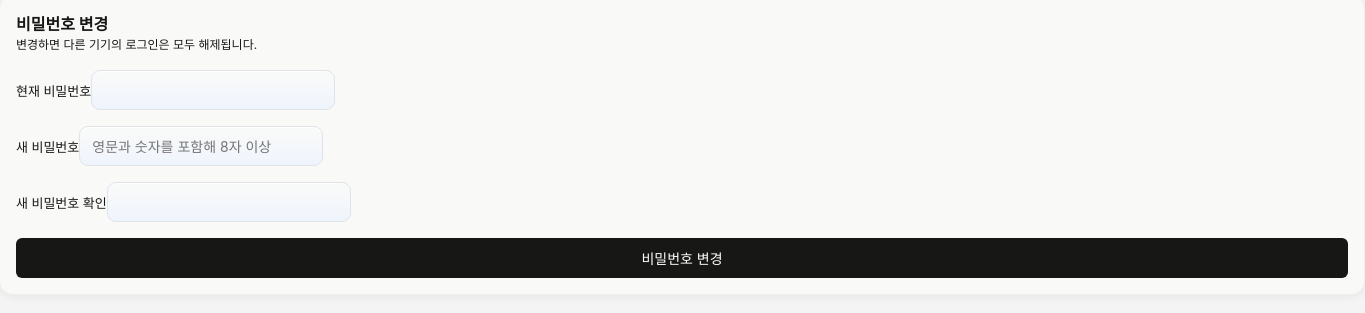
Scenario: PasswordCard › rejects mismatched confirmation
In the password field labelled "현재 비밀번호": (213, 90) [91, 70, 335, 110], type "password123"
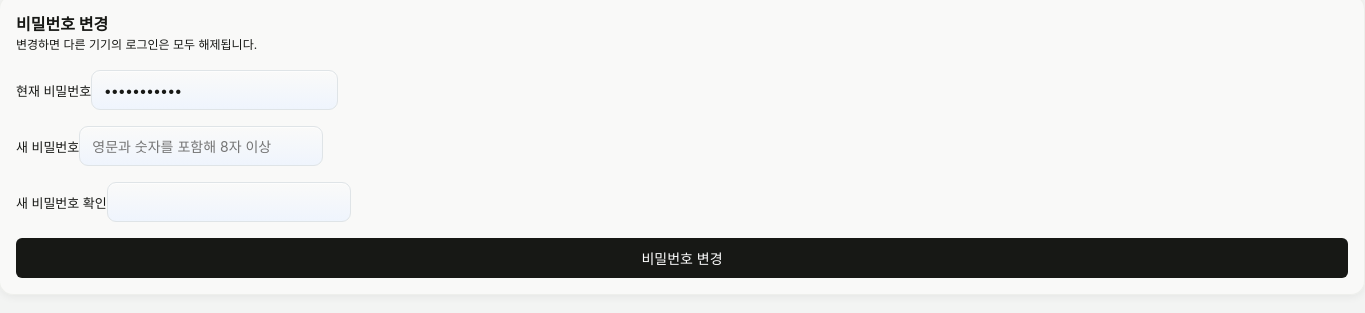
In the password field labelled "새 비밀번호": (201, 146) [79, 126, 323, 166], type "newpass123"
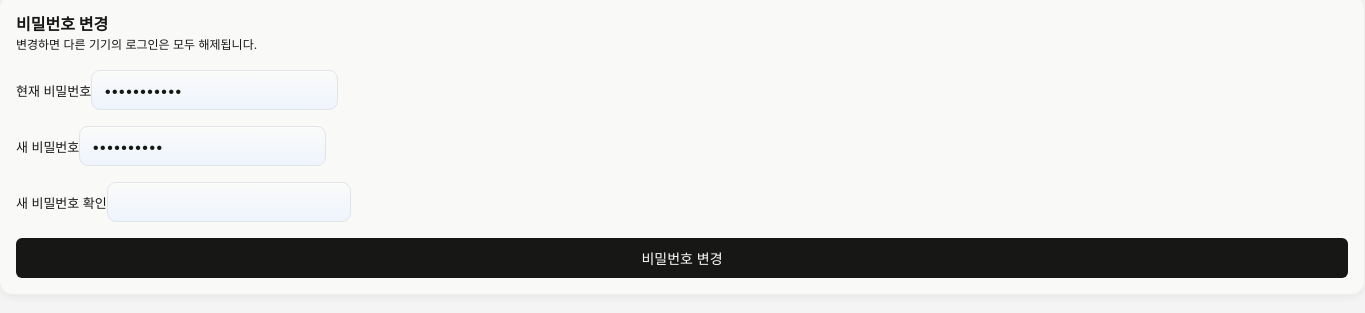
In the password field labelled "새 비밀번호 확인": (229, 202) [107, 182, 351, 222], type "newpass124"
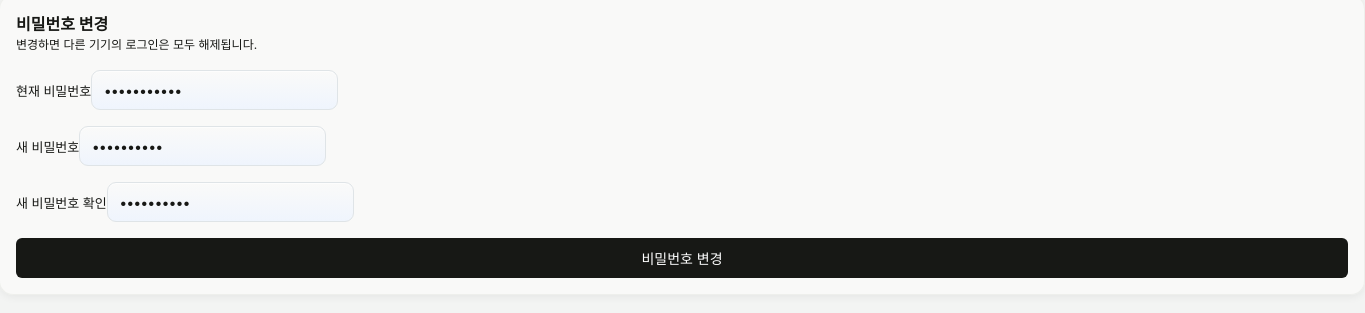
Click the button "비밀번호 변경": click(682, 258) [16, 238, 1348, 278]
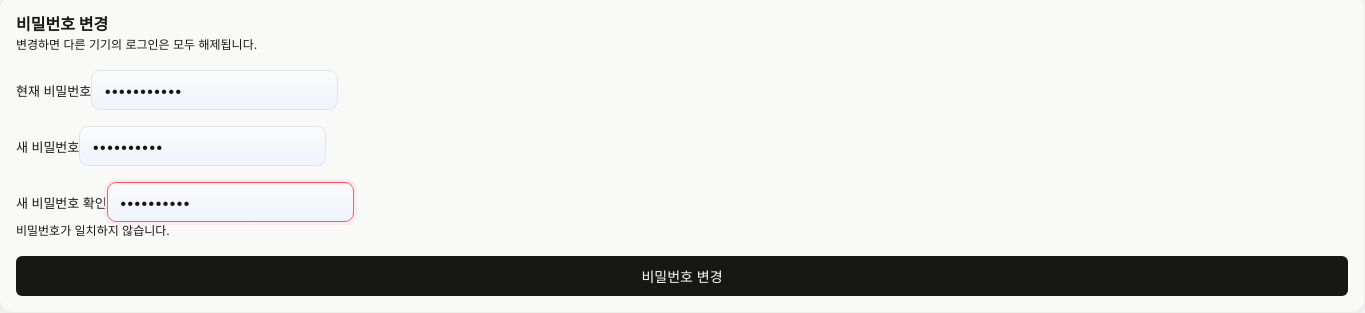
Result: the text "비밀번호가 일치하지 않습니다." is shown at [16, 223, 170, 238]
